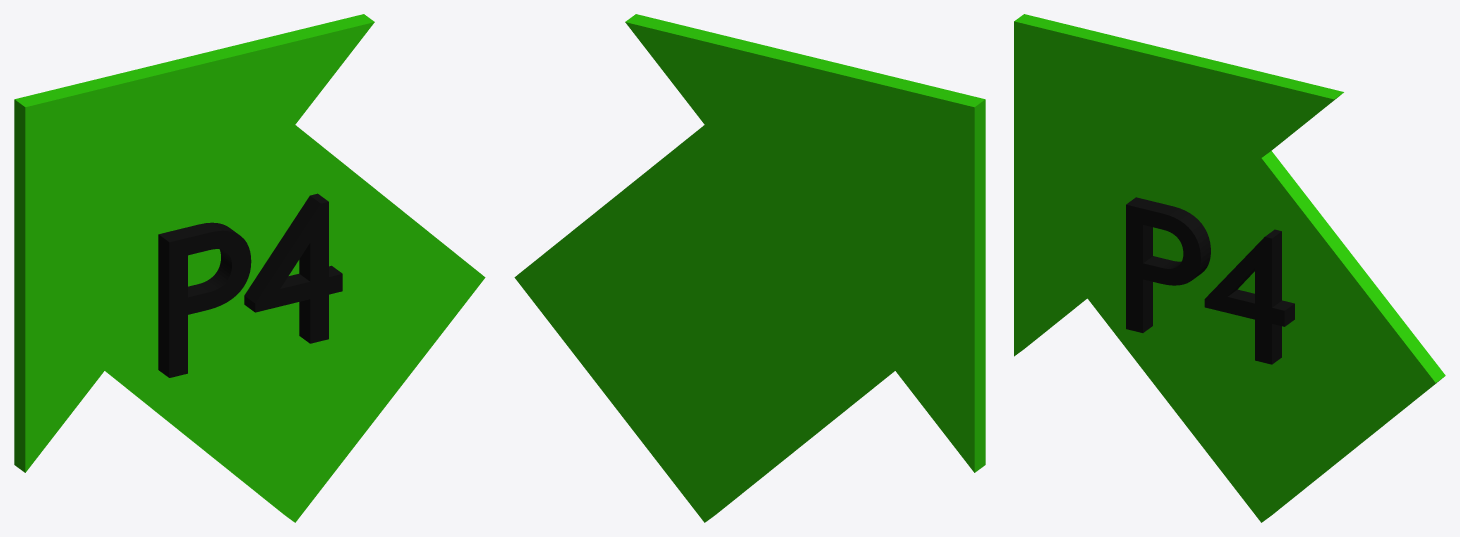
Rendered from Player4.obj.
The picture shows the model from 3 angles, left to right: view 1: azimuth 30°, elevation 25°; view 2: azimuth 150°, elevation 25°; view 3: azimuth 330°, elevation 25°; orthographic projection. The views are drawn at different scales.
Visible parts, largest first — view 1: Cube, Cube.001; view 2: Cube; view 3: Cube, Cube.001.
Part boxes in pixels (<box>): Cube: <box>14,14,485,522</box>; Cube.001: <box>158,193,342,377</box>; Cube: <box>514,14,985,522</box>; Cube: <box>1014,14,1445,522</box>; Cube.001: <box>1126,197,1294,364</box>.
Size of the model in its own units: 2.42 by 2.42 by 0.2.
